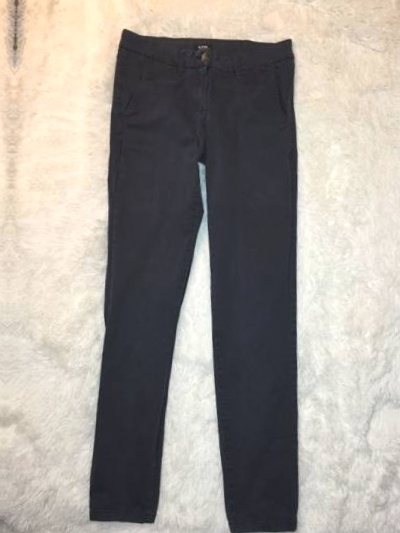Pants: (58, 17, 334, 533)
